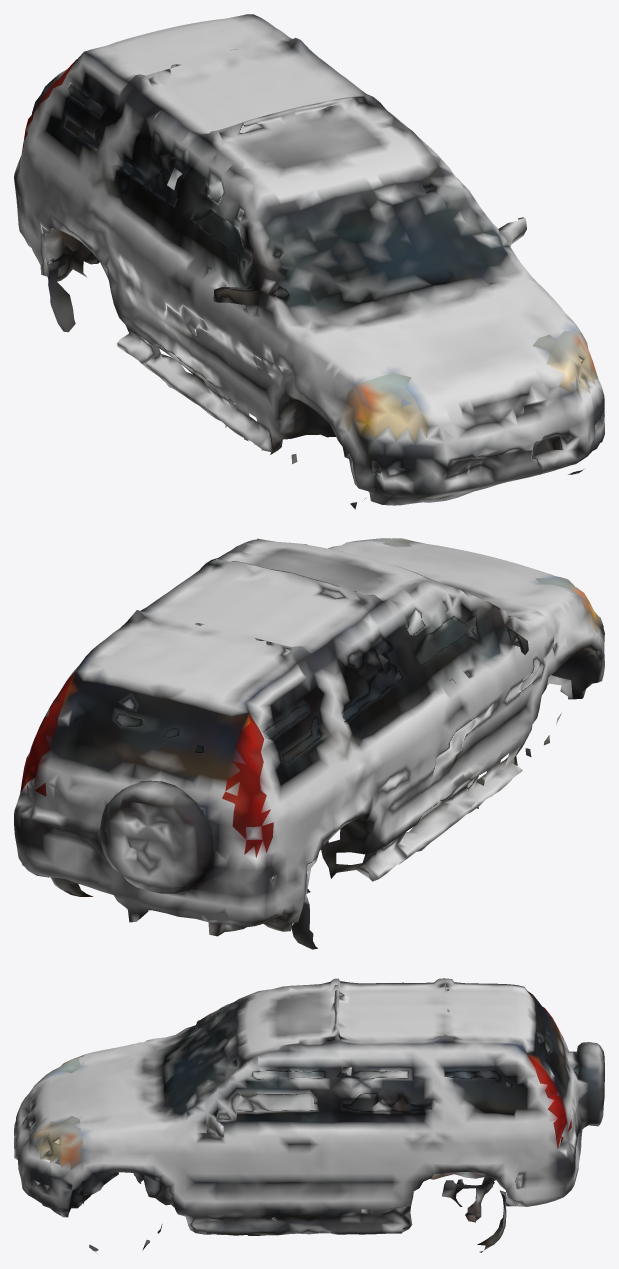
Rendered from honda-cr-v-rd.glb.
3 renders of one model, top to bottom at view 1: azimuth 30°, elevation 25°; view 2: azimuth 150°, elevation 25°; view 3: azimuth 270°, elevation 25°, orthographic. The views are drawn at different scales.
Visible parts, largest first — view 1: honda-cr-v-rd; view 2: honda-cr-v-rd; view 3: honda-cr-v-rd.
Part boxes in pixels (x1=…): honda-cr-v-rd: x1=14, y1=14, x2=604, y2=509; honda-cr-v-rd: x1=14, y1=538, x2=604, y2=949; honda-cr-v-rd: x1=14, y1=978, x2=604, y2=1252.
Bounding box in the file's own units: 2.03 × 1.73 × 4.53.
